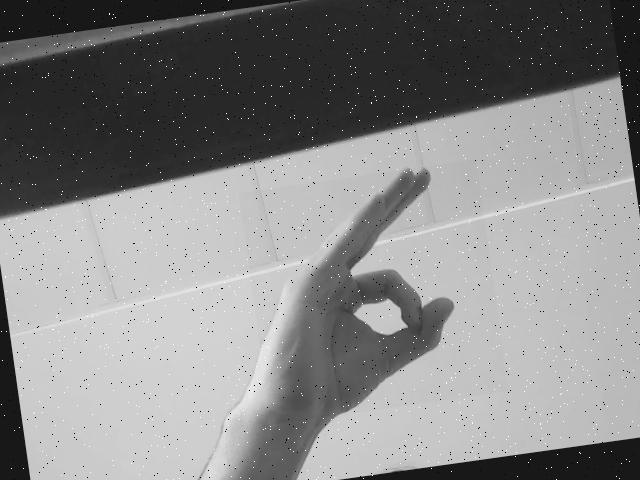OK: (239, 159, 509, 424)
